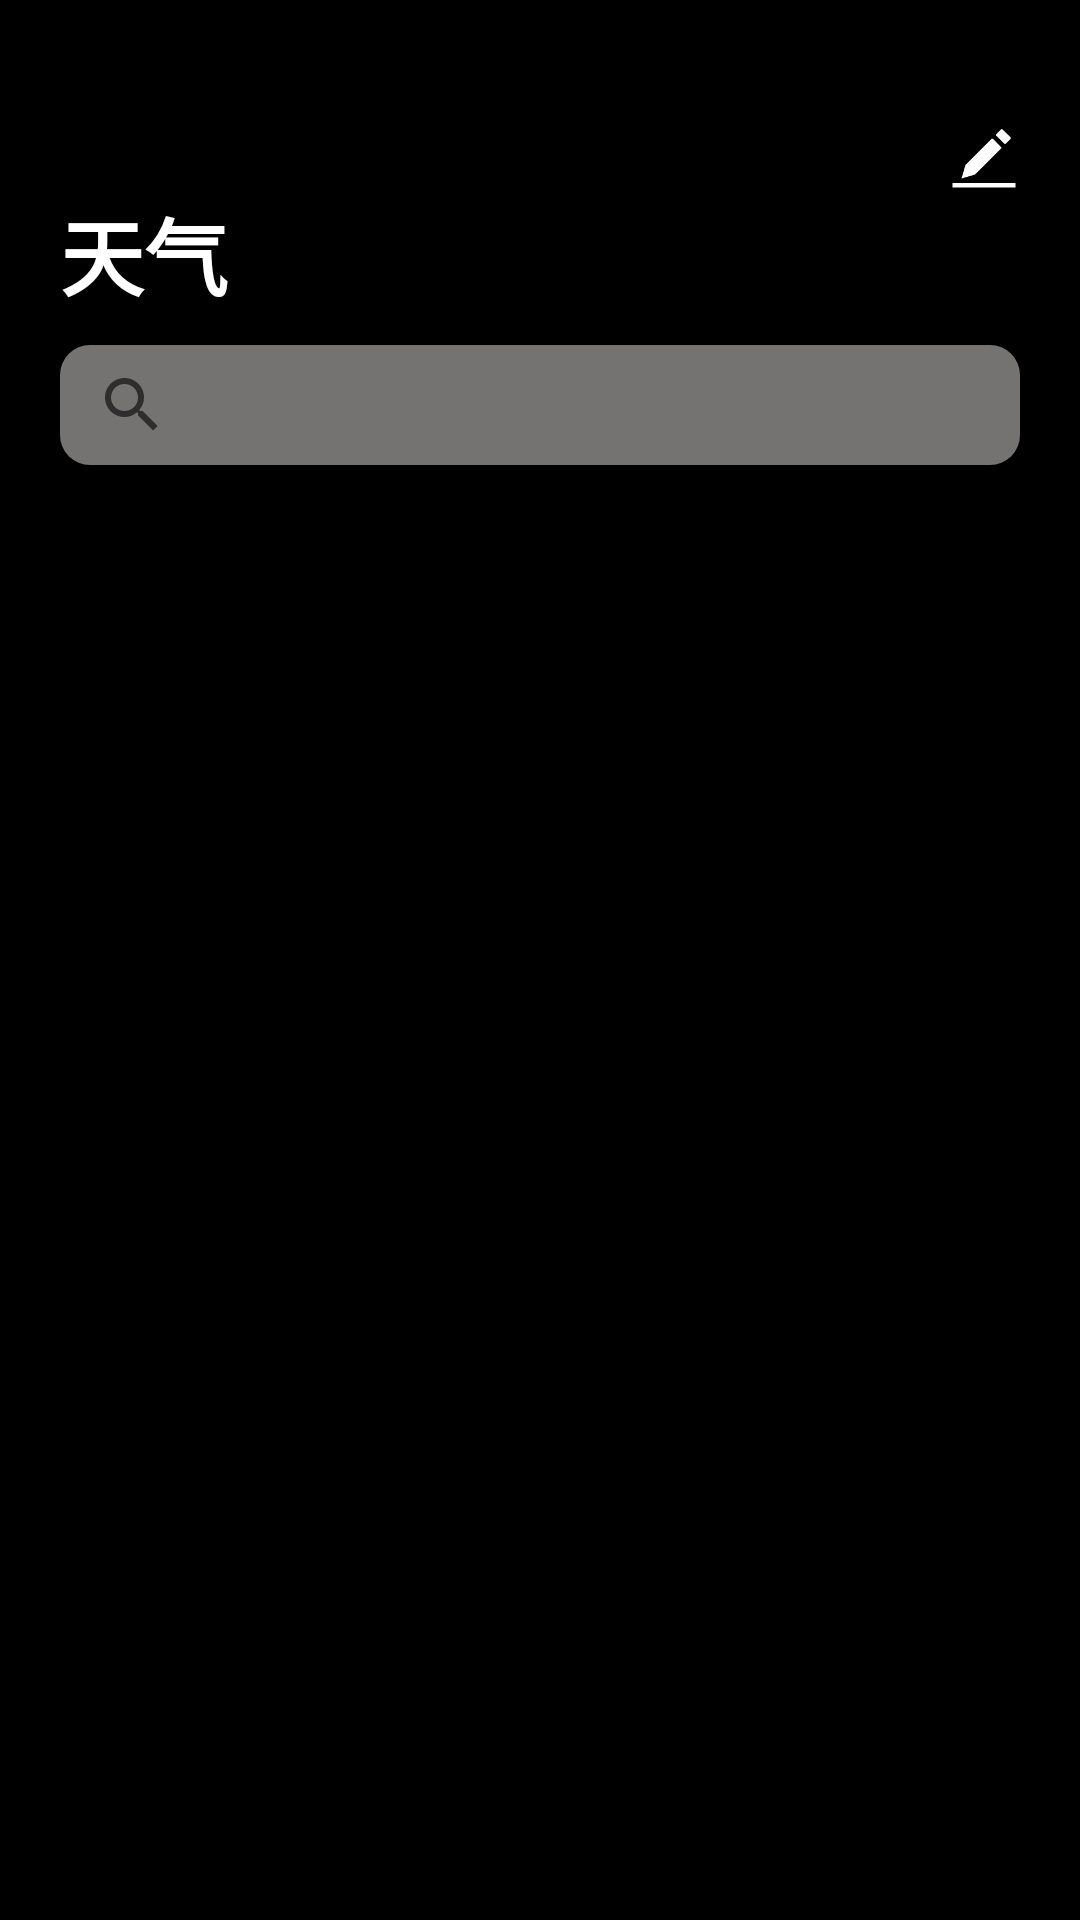

Screen size 1080 × 1920. Icon name, then its center in pixels as point (x, y):
edit: point (984, 158)
